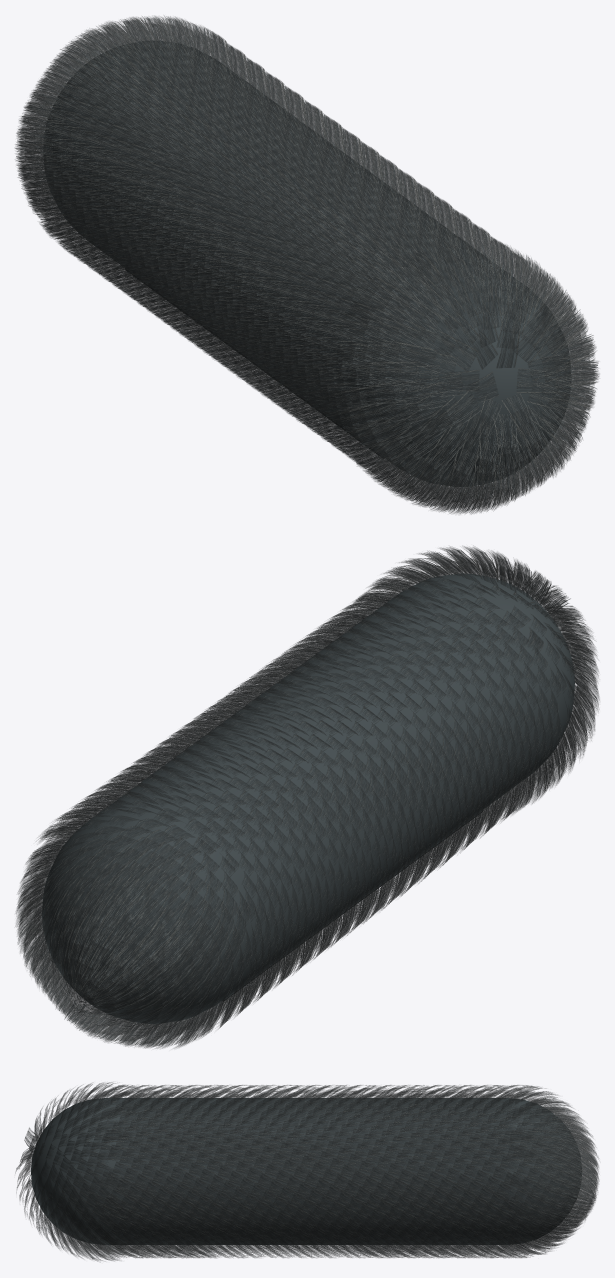
File: B05_Optional_Windjammer.glb
3 views of the same model, one above another, from view 1: azimuth 30°, elevation 25°; view 2: azimuth 150°, elevation 25°; view 3: azimuth 270°, elevation 25° (orthographic). The views are drawn at different scales.
Parts seen in each view (by area): view 1: Windjammer | directional layered fur cards, Windjammer | fitted woven support; view 2: Windjammer | directional layered fur cards, Windjammer | fitted woven support; view 3: Windjammer | directional layered fur cards, Windjammer | fitted woven support.
Part boxes in pixels (<box>): Windjammer | directional layered fur cards: <box>15,16,599,514</box>; Windjammer | fitted woven support: <box>43,40,570,486</box>; Windjammer | directional layered fur cards: <box>15,546,599,1048</box>; Windjammer | fitted woven support: <box>42,573,574,1023</box>; Windjammer | directional layered fur cards: <box>15,1082,599,1261</box>; Windjammer | fitted woven support: <box>30,1098,581,1244</box>.
Bounding box in the file's own units: 0.1633 × 0.1624 × 0.5193.
Materials: 3 (1 with a texture image).
